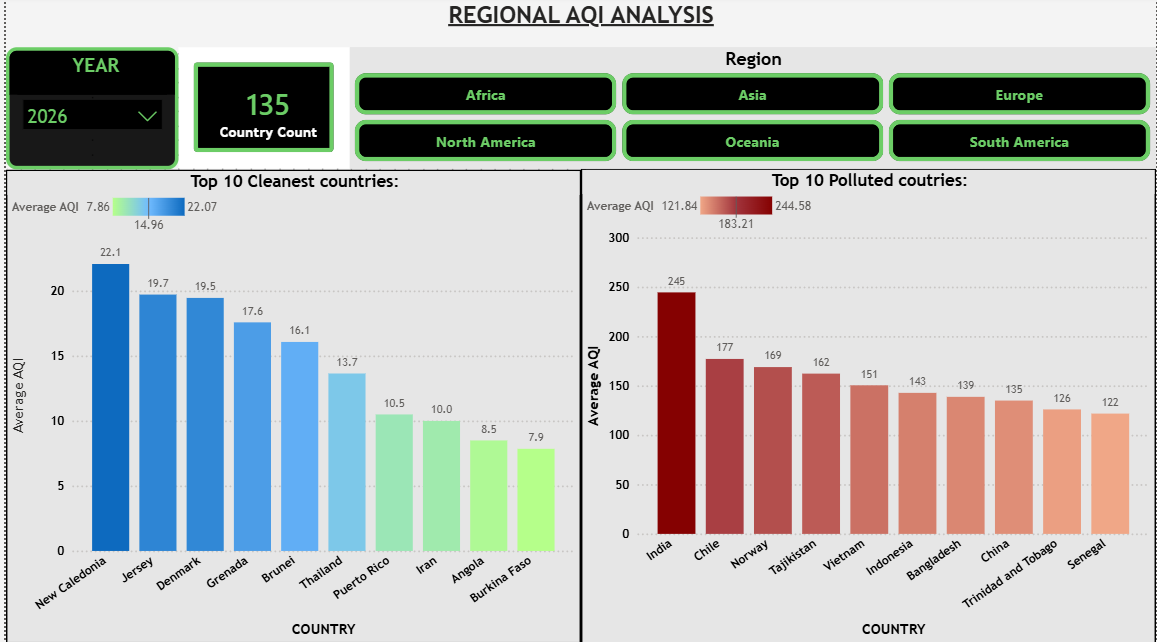

Layout of this report page (visuals, bound fields, positions):
{"tool":"powerbi","page":{"name":"Page 3","canvas":[1280,720],"ordinal":2},"visuals":[{"type":"columnChart","title":"Top 10 Cleanest countries:","fields":{"Y":["AQI_Data.Average AQI"],"Category":["AQI_Data.Country"]},"box":[0,192.7,640,527.3],"z":0},{"type":"columnChart","title":"Top 10 Polluted coutries:","fields":{"Y":["AQI_Data.Average AQI"],"Category":["AQI_Data.Country"]},"box":[640,191.3,640,528.7],"z":1000},{"type":"advancedSlicerVisual","title":"Region","fields":{"Values":["AQI_Data.Continent"]},"box":[382.6,57,897.4,135],"z":2000},{"type":"cardVisual","fields":{"Data":["Count(AQI_Data.Country)"]},"box":[192,57,190.6,135],"z":3000},{"type":"textbox","box":[0,0,1280,57],"z":4000},{"type":"slicer","title":"YEAR","fields":{"Values":["AQI_Data.Year"]},"box":[0,57,192,136.3],"z":5000}]}

Visuals, with their boxes in screenshot pixels (x1, y1, x2, y2), scaled from the page's 1280x720 canvas onto the 1157x642 screenshot:
"Top 10 Cleanest countries:" columnChart: {"x1": 0, "y1": 172, "x2": 578, "y2": 641}
"Top 10 Polluted coutries:" columnChart: {"x1": 578, "y1": 171, "x2": 1156, "y2": 641}
"Region" advancedSlicerVisual: {"x1": 346, "y1": 51, "x2": 1156, "y2": 171}
cardVisual - Count(AQI_Data.Country): {"x1": 174, "y1": 51, "x2": 346, "y2": 171}
textbox: {"x1": 0, "y1": 0, "x2": 1156, "y2": 51}
"YEAR" slicer: {"x1": 0, "y1": 51, "x2": 174, "y2": 172}
